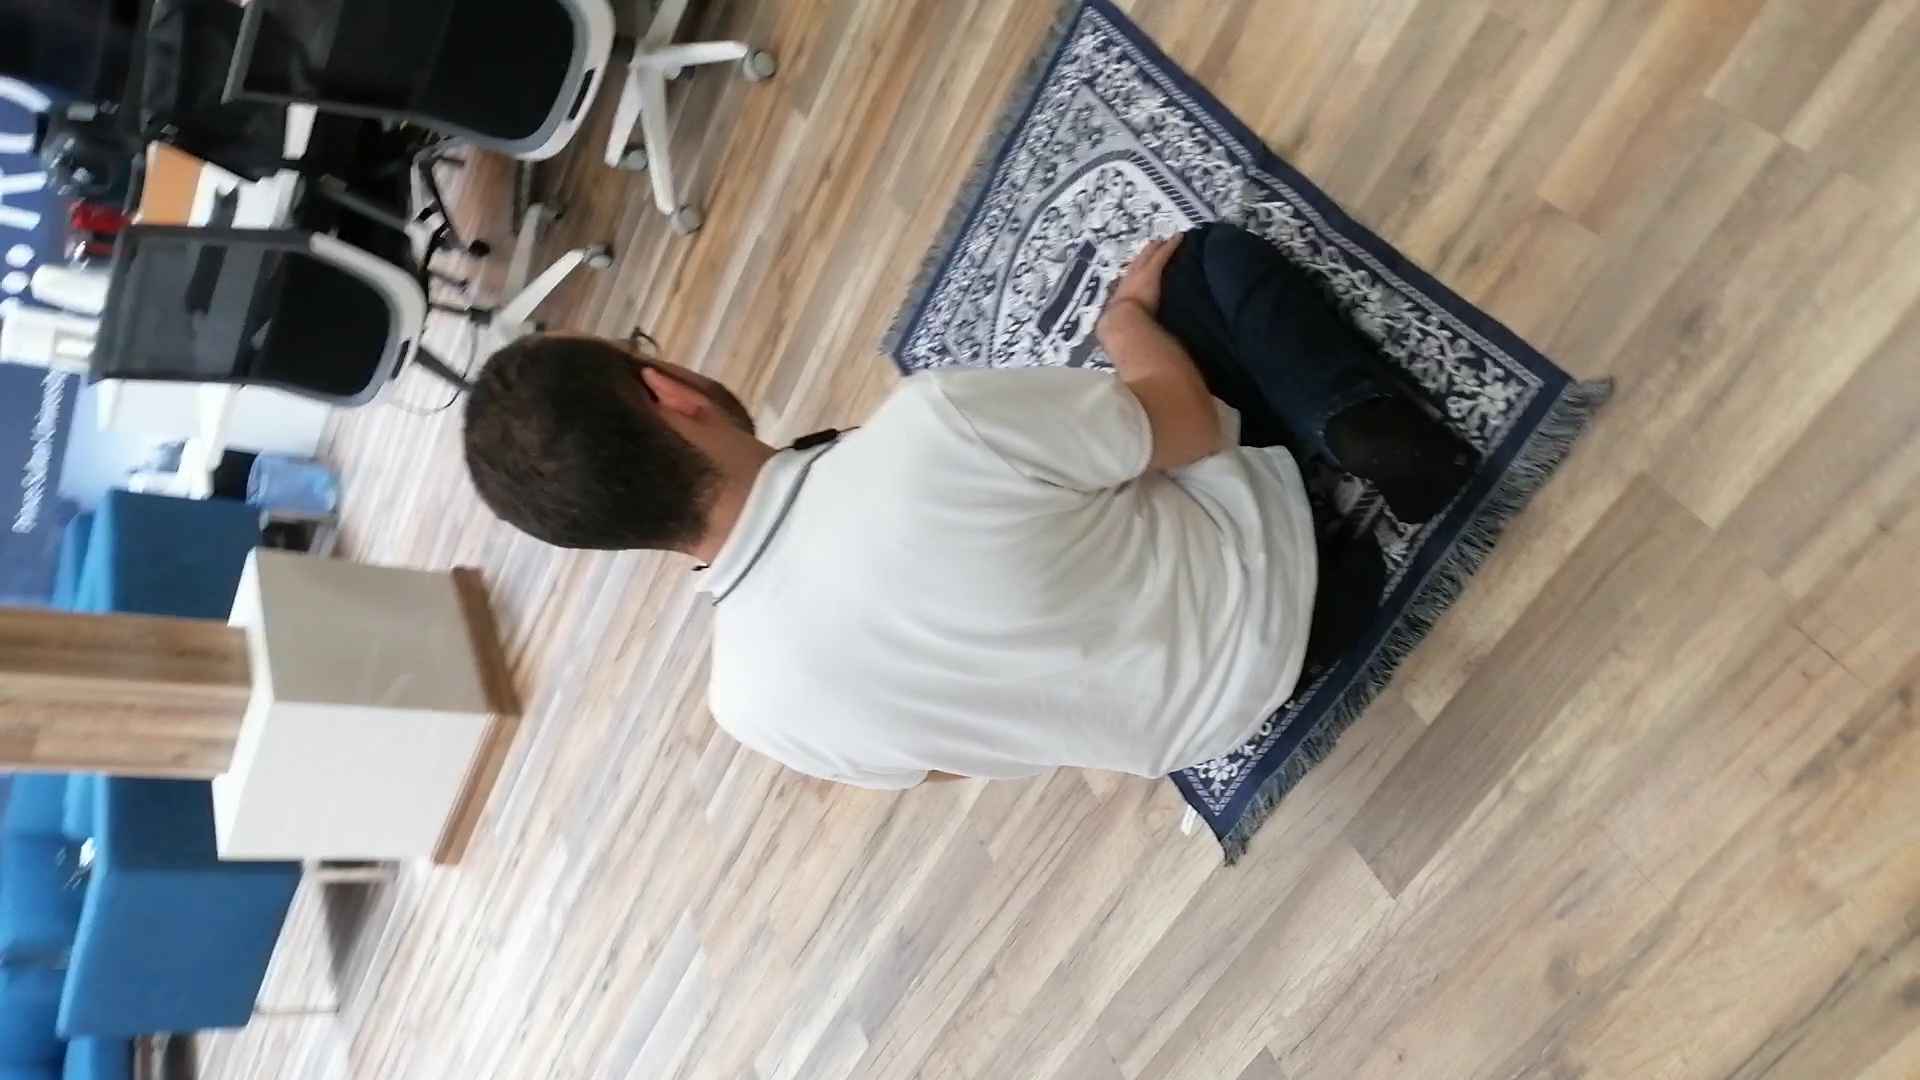sitting: (451, 211, 1478, 803)
